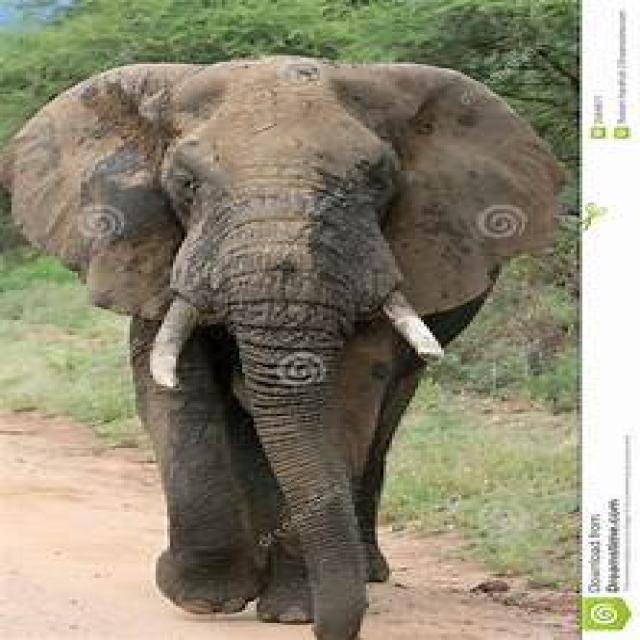elephant: (0, 55, 565, 640)
